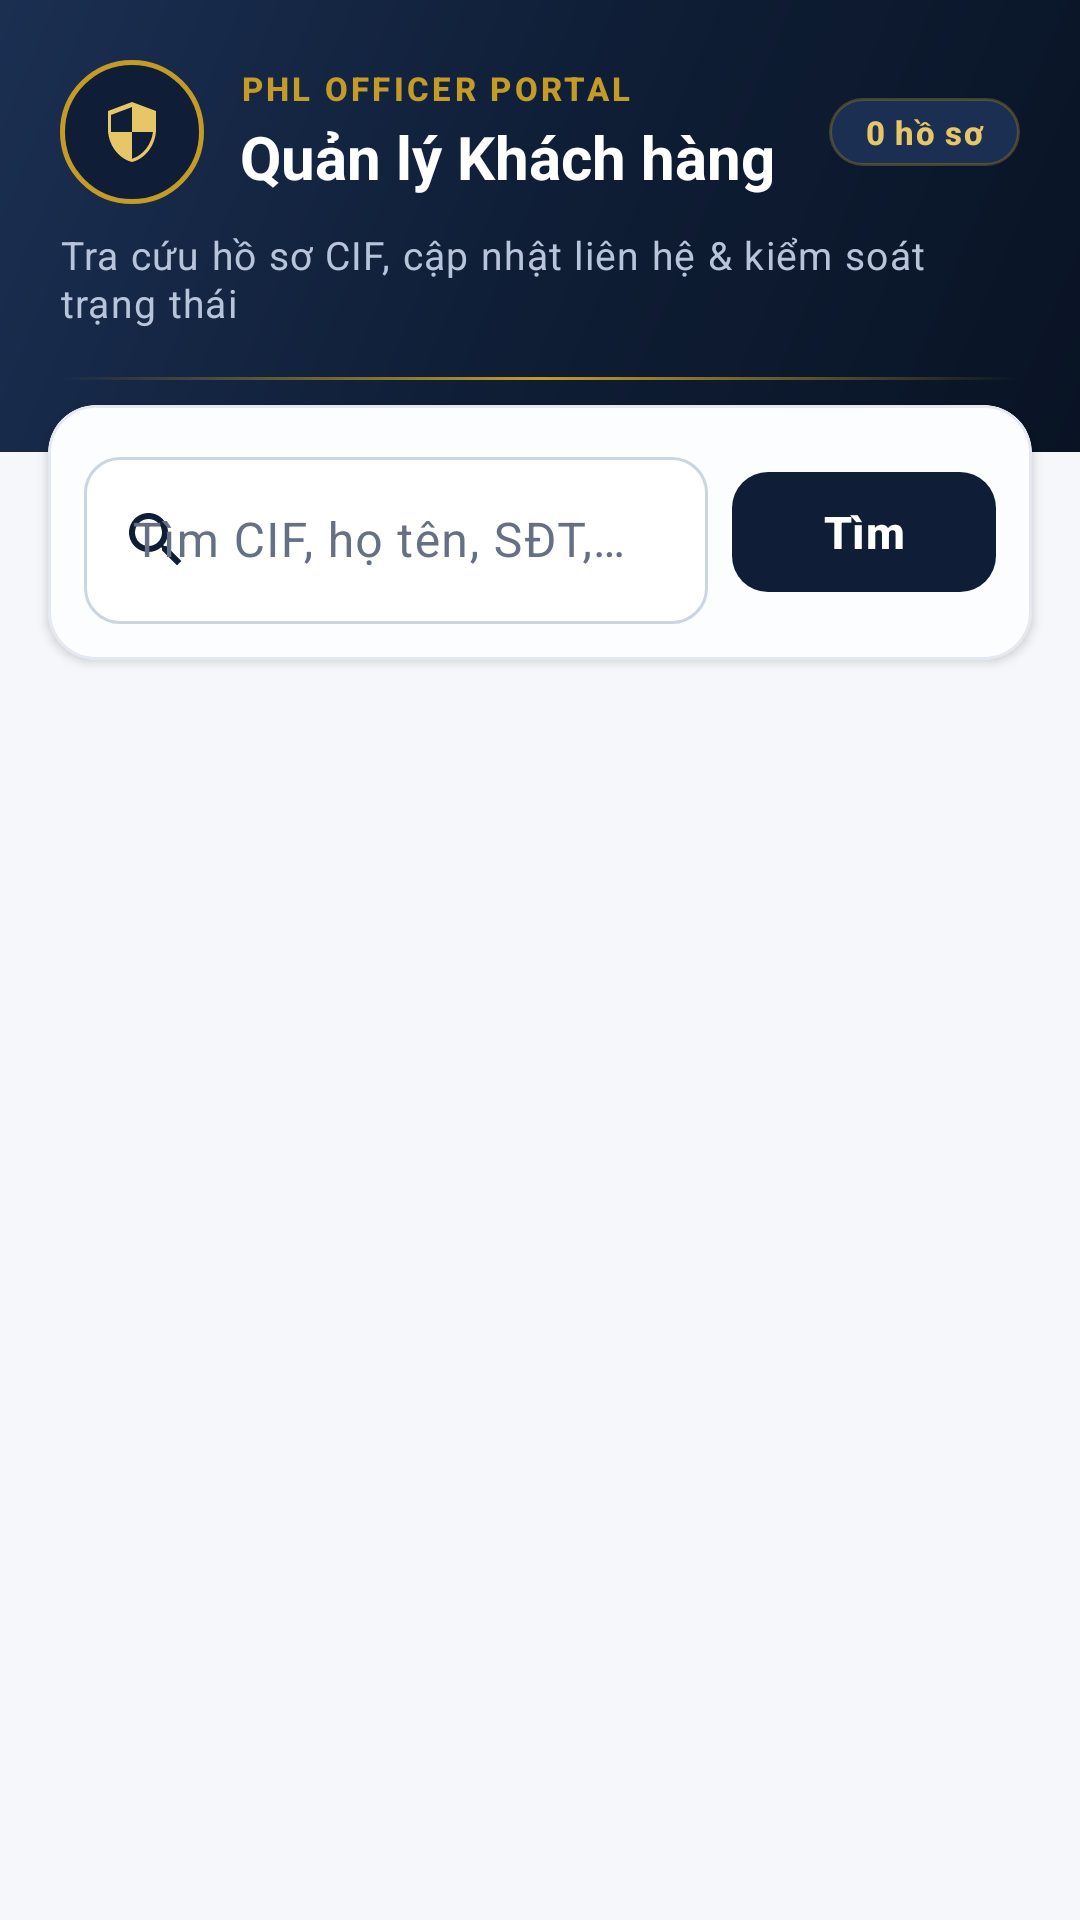

Point at icon controls on the screen. Image size 1080px×1920px, points as point (x, y).
phl shield: point (132, 132)
